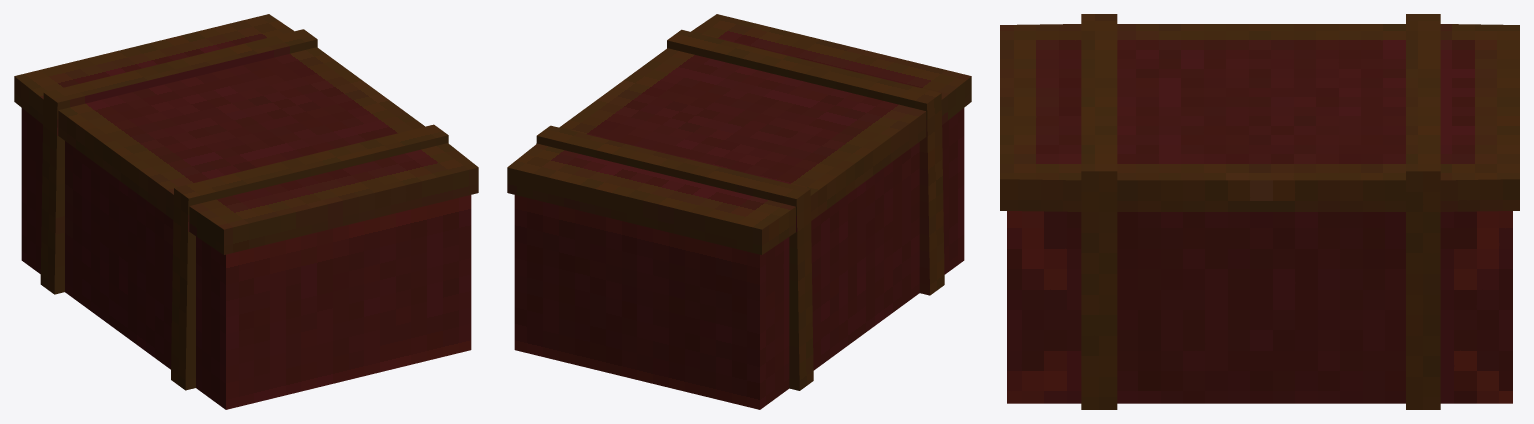
Rendered from BauCamarim.fbx.
3 views of the same model, side by side, from view 1: azimuth 30°, elevation 25°; view 2: azimuth 150°, elevation 25°; view 3: azimuth 270°, elevation 25° (orthographic). The views are drawn at different scales.
Parts seen in each view (by area): view 1: Cube.002; view 2: Cube.002; view 3: Cube.002.
Part boxes in pixels (bbox=[...]): Cube.002: bbox=[14, 14, 478, 409]; Cube.002: bbox=[507, 14, 971, 409]; Cube.002: bbox=[1000, 14, 1519, 409].
Size of the model in its own units: 106 by 72.64 by 144.
Materials: 1 (1 with a texture image).
